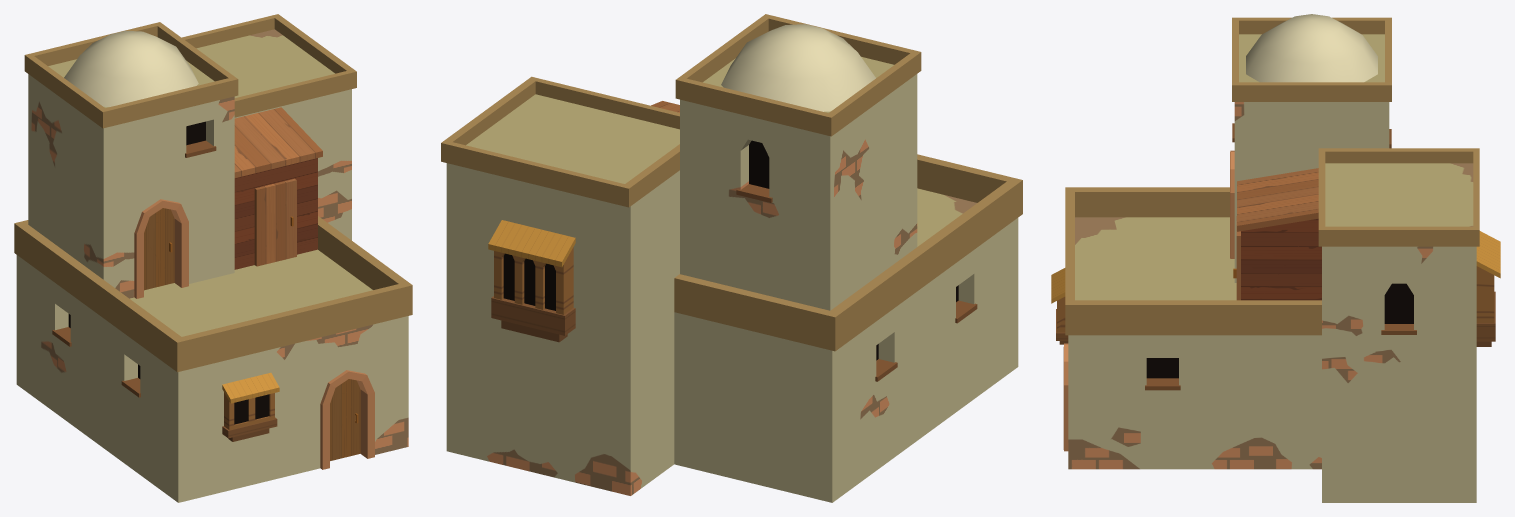
The model's file is Desert Building 02.fbx.
3 renders of one model, left to right at view 1: azimuth 30°, elevation 25°; view 2: azimuth 150°, elevation 25°; view 3: azimuth 270°, elevation 25°, orthographic. The views are drawn at different scales.
Parts seen in each view (by area): view 1: Desert_Building_02, Door; view 2: Desert_Building_02; view 3: Desert_Building_02.
Boxes of the visible parts, <box> form: Desert_Building_02: <box>14,14,412,502</box>; Door: <box>330,379,360,460</box>; Desert_Building_02: <box>441,14,1022,502</box>; Desert_Building_02: <box>1051,14,1500,502</box>.
Size of the model in its own units: 803 by 914 by 1007.
